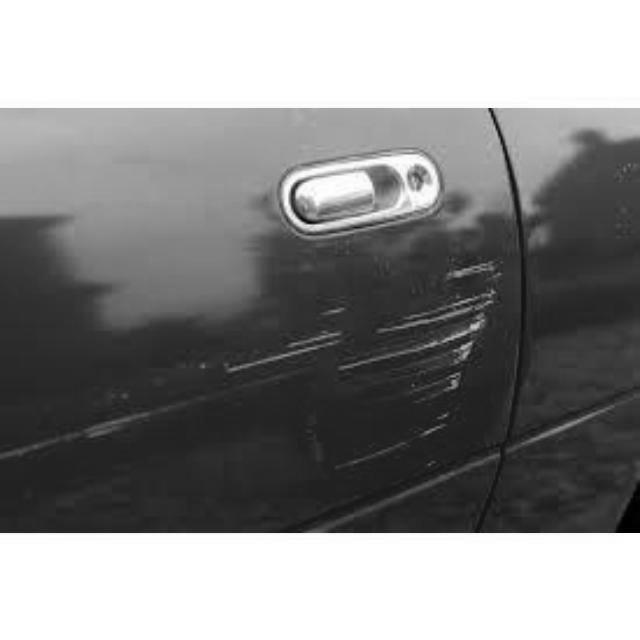doorouter-dent: (136, 135, 533, 507)
